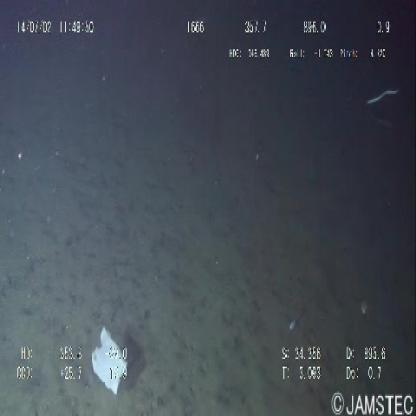Rác: (86, 319, 130, 405)
